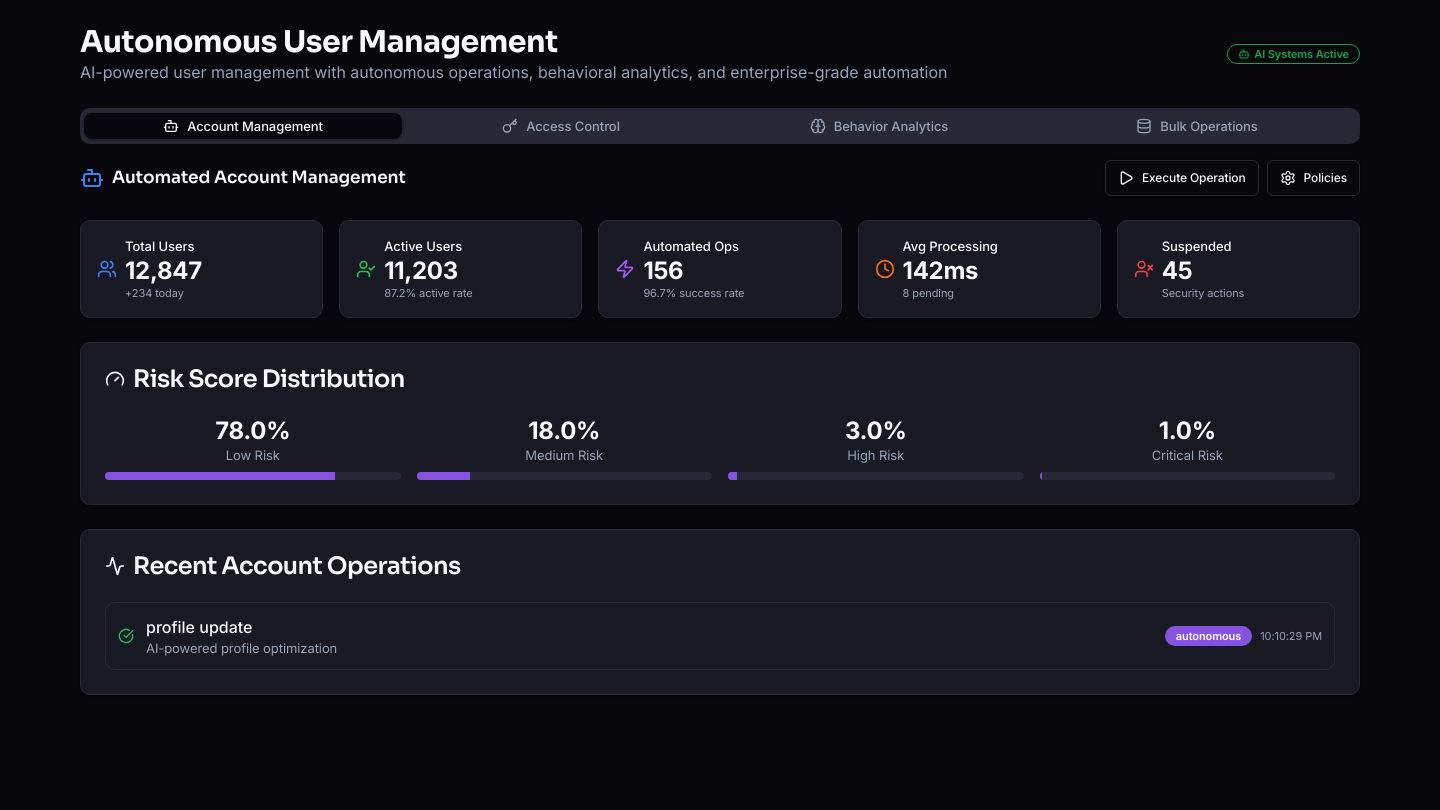
Test: AutonomousUserManagementDashboard › displays behavior analytics metrics correctly
Click the tab "Behavior Analytics": click(879, 126) [720,113,1038,139]
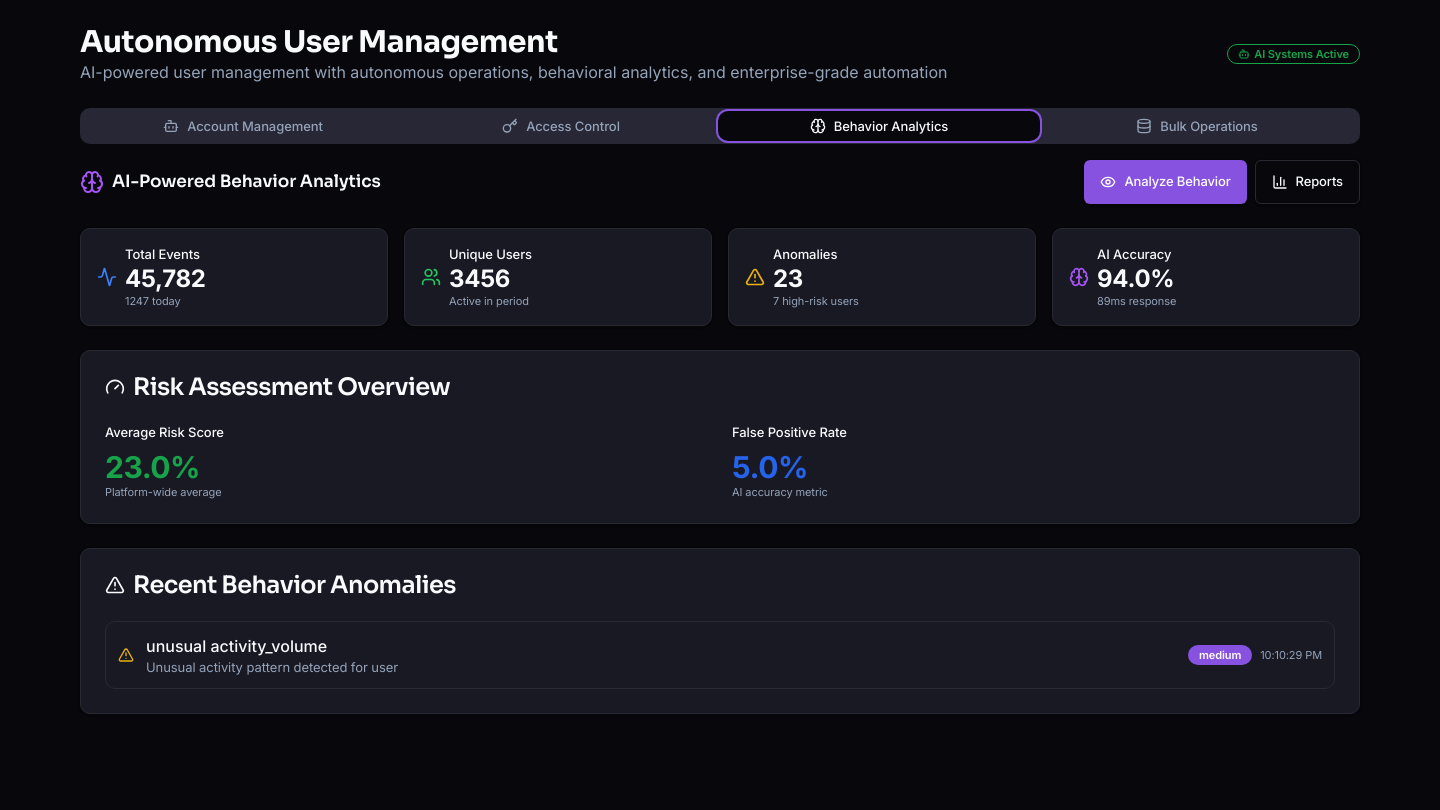
Check: the text "45,782" is shown, box [125,263,206,294]
Check: the text "3456" is shown, box [449,264,510,293]
Check: the text "23" is shown, box [773,264,803,293]
